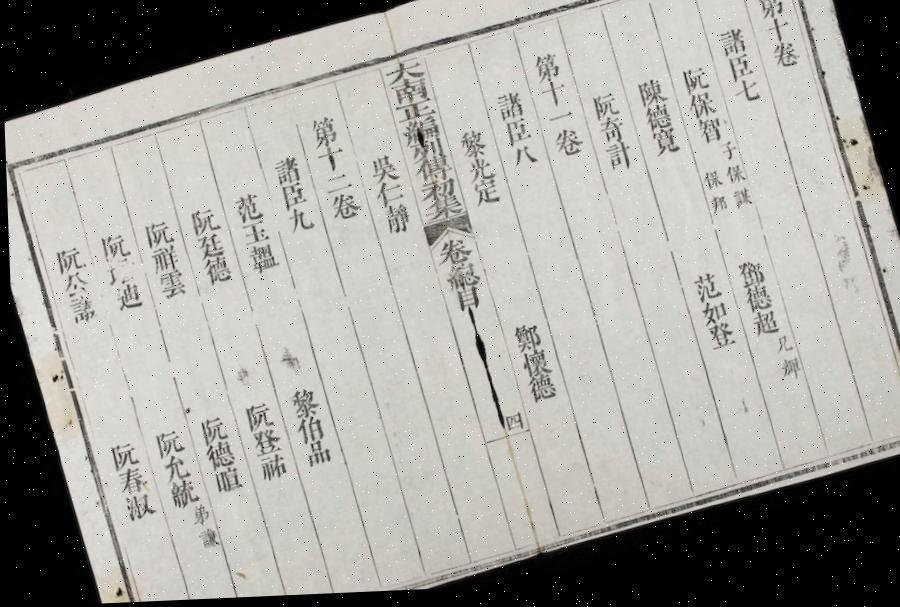c: (396, 116, 442, 154), (430, 236, 475, 274), (408, 154, 453, 190), (386, 77, 432, 112), (302, 113, 342, 153), (379, 57, 426, 91), (241, 240, 280, 278), (226, 189, 265, 227), (322, 190, 362, 227), (419, 195, 465, 227), (376, 202, 414, 240), (60, 292, 100, 328), (114, 489, 155, 524), (438, 264, 480, 298), (684, 273, 722, 310), (282, 385, 320, 422), (548, 127, 586, 164), (159, 476, 198, 512), (92, 228, 131, 264), (414, 179, 459, 210), (390, 98, 436, 128), (527, 51, 564, 88), (363, 153, 400, 190), (490, 90, 527, 127), (146, 424, 184, 460), (598, 144, 636, 180), (630, 78, 668, 114), (47, 241, 86, 276), (107, 463, 146, 498), (514, 350, 552, 385), (137, 217, 175, 252), (190, 412, 228, 447), (198, 439, 236, 474), (182, 204, 220, 239), (100, 438, 139, 472), (250, 452, 289, 486), (506, 322, 543, 357), (674, 68, 712, 102), (236, 400, 274, 434), (454, 129, 489, 165), (646, 130, 682, 165), (585, 92, 621, 127), (268, 154, 304, 189), (520, 375, 557, 409), (205, 464, 242, 498), (736, 287, 773, 321), (243, 427, 281, 460), (714, 29, 749, 64), (467, 180, 503, 214), (312, 144, 348, 178), (766, 44, 802, 78), (498, 118, 534, 152), (152, 268, 188, 302), (730, 260, 766, 294), (592, 118, 628, 152), (699, 325, 736, 358), (274, 180, 309, 214), (296, 438, 332, 471), (728, 81, 764, 114), (108, 281, 144, 314), (535, 81, 571, 114), (744, 312, 780, 345), (288, 414, 324, 447), (154, 452, 190, 485), (144, 243, 180, 276), (682, 94, 718, 127), (721, 57, 756, 90), (100, 256, 136, 288), (55, 268, 91, 300), (693, 302, 729, 334), (638, 106, 674, 138), (370, 180, 406, 212), (197, 256, 233, 288), (405, 140, 446, 168), (281, 206, 315, 239), (191, 231, 226, 263), (460, 157, 496, 188), (236, 219, 272, 250), (317, 170, 354, 200), (692, 120, 726, 152), (759, 20, 794, 51), (448, 288, 484, 318), (750, 0, 788, 28), (505, 146, 540, 176), (541, 109, 576, 133), (772, 360, 800, 389), (190, 525, 218, 553), (727, 190, 754, 217), (182, 502, 209, 528), (704, 196, 729, 222), (721, 166, 746, 192), (699, 172, 724, 198), (714, 144, 738, 170), (767, 338, 792, 362), (498, 412, 522, 435)
